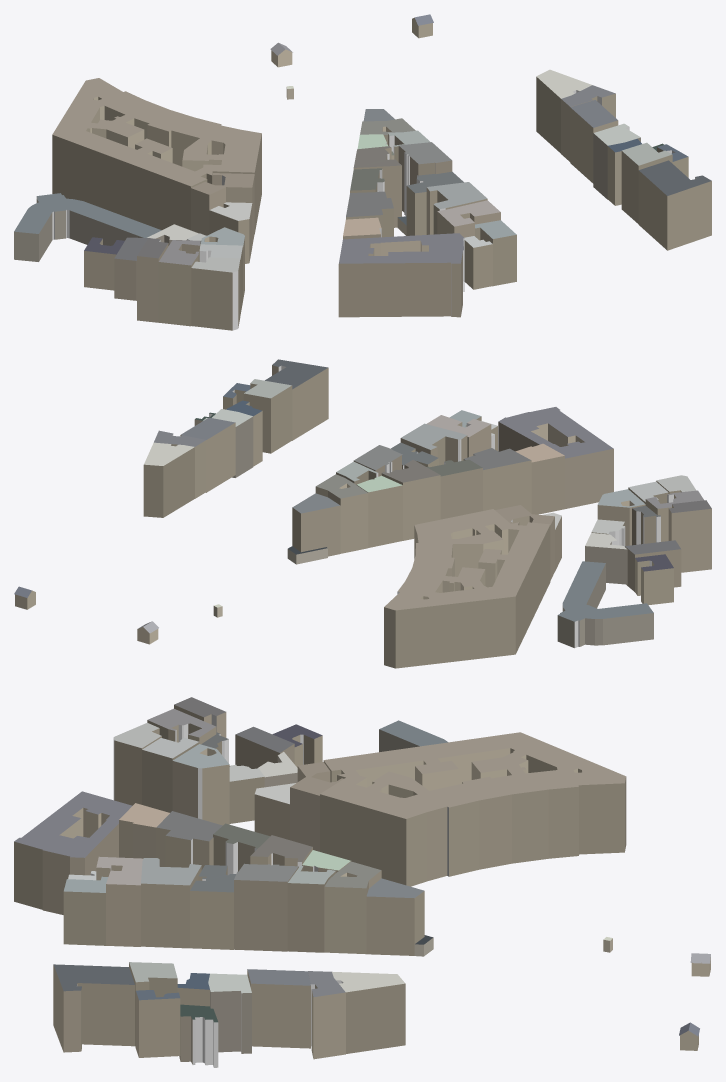
The picture shows the model from 3 angles, top to bottom: view 1: azimuth 30°, elevation 25°; view 2: azimuth 150°, elevation 25°; view 3: azimuth 270°, elevation 25°; orthographic projection. The views are drawn at different scales.
Parts seen in each view (by area): view 1: tuile; view 2: tuile; view 3: tuile.
Boxes of the visible parts, left/top/right/bottom form: tuile: left=14, top=14, right=711, bottom=330; tuile: left=14, top=359, right=711, bottom=668; tuile: left=14, top=697, right=710, bottom=1067.
Size of the model in its own units: 274 by 31.53 by 260.
